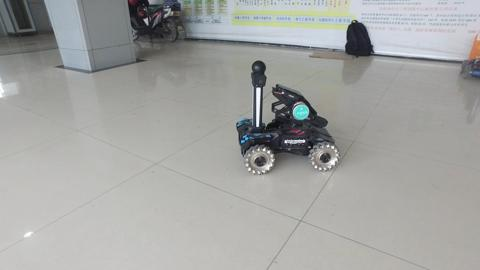bag: (341, 17, 377, 60)
chariot: (235, 58, 341, 176)
